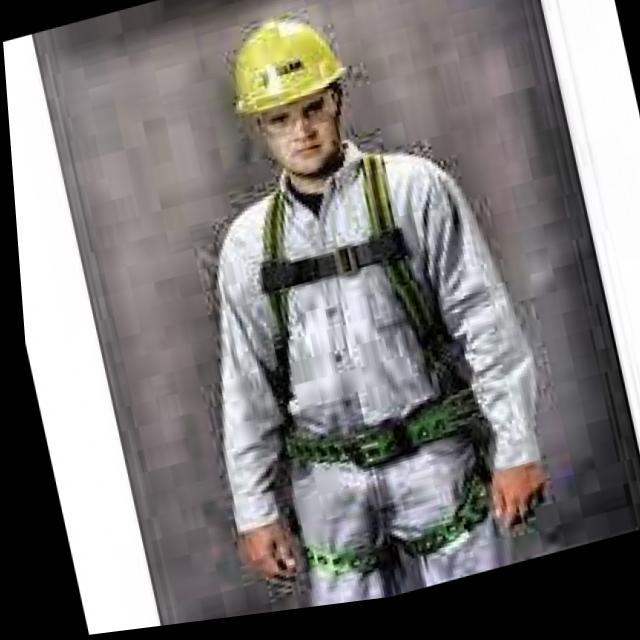belt: (212, 142, 505, 614)
